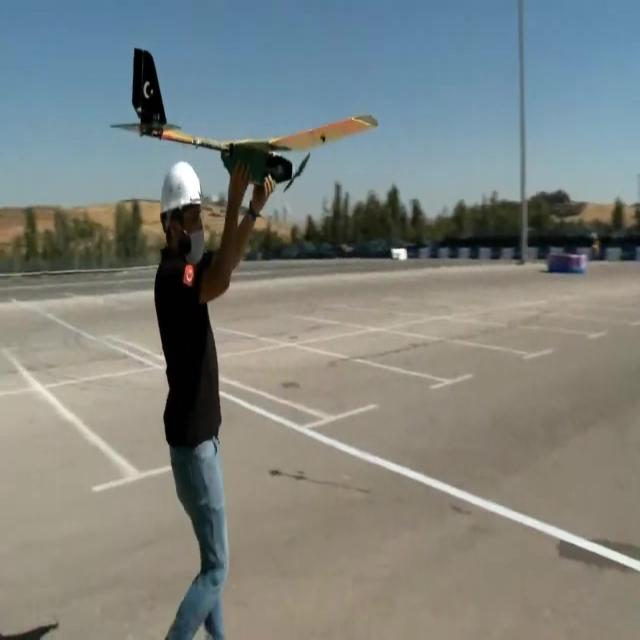iha: (108, 0, 378, 131)
